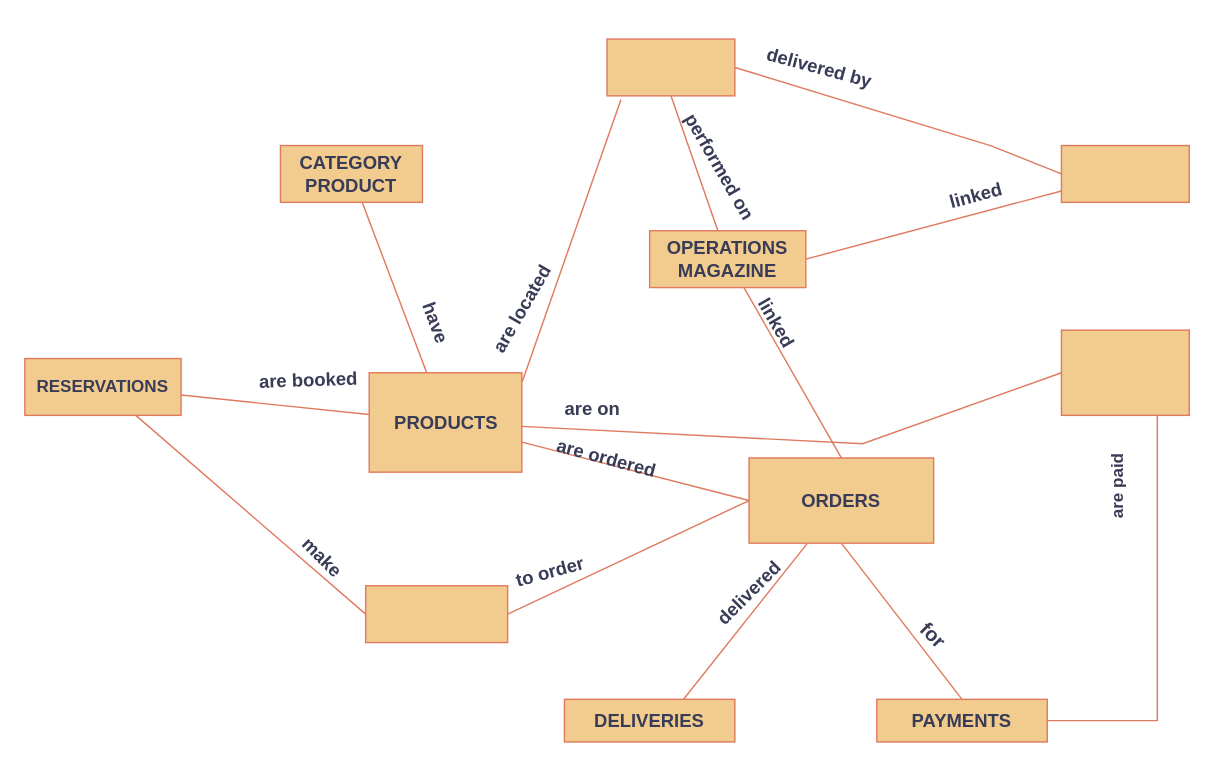
This 1214x768 diagram has some shape labels left out. Here are the shapes that lost their labels. From the top down, the box of each, then its label:
(606, 38, 735, 96): STOCK
(1060, 144, 1189, 202): PARTNERS
(1060, 329, 1189, 415): INVOICES
(364, 584, 508, 643): USERS
